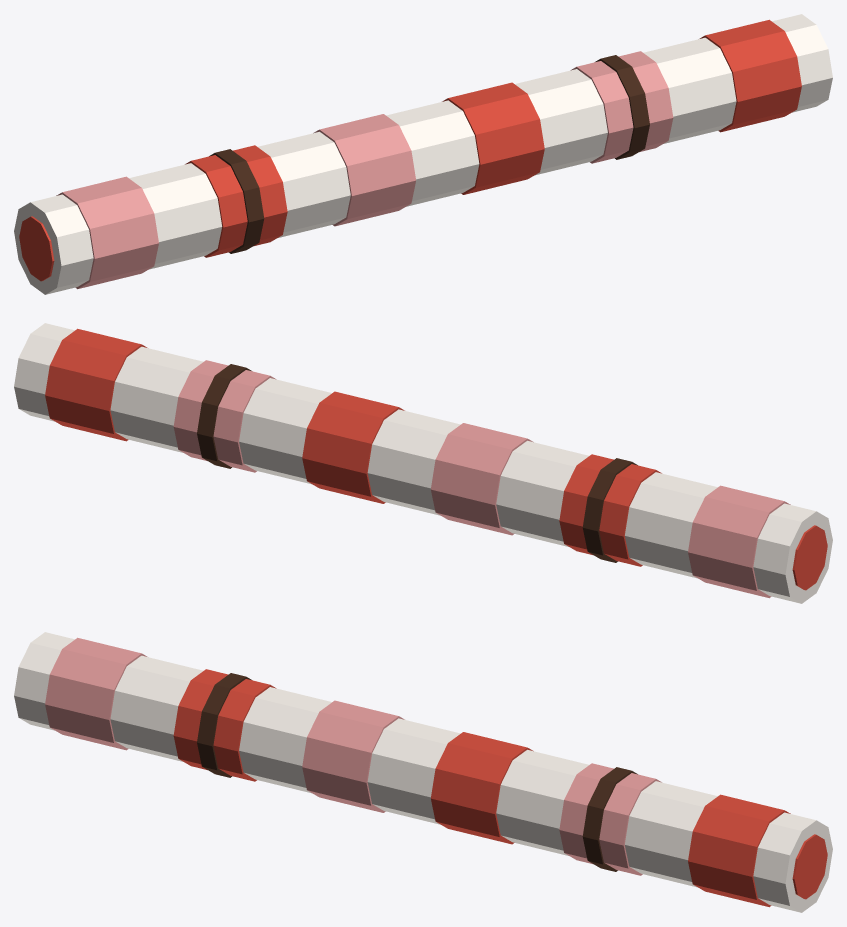
Rendered from CatCafe_Prop_PicnicBlanket_Rolled.glb.
3 renders of one model, top to bottom at view 1: azimuth 30°, elevation 25°; view 2: azimuth 150°, elevation 25°; view 3: azimuth 330°, elevation 25°, orthographic.
Visible parts, largest first — view 1: CatCafe_Prop_PicnicBlanket_Rolled; view 2: CatCafe_Prop_PicnicBlanket_Rolled; view 3: CatCafe_Prop_PicnicBlanket_Rolled.
Boxes of the visible parts, x1,y1,x2,y2 form: CatCafe_Prop_PicnicBlanket_Rolled: (14,14,832,294); CatCafe_Prop_PicnicBlanket_Rolled: (14,323,832,603); CatCafe_Prop_PicnicBlanket_Rolled: (14,632,832,912).
Size of the model in its own units: 6.03 by 0.6657 by 0.7.
Materials: 1 (1 with a texture image).
